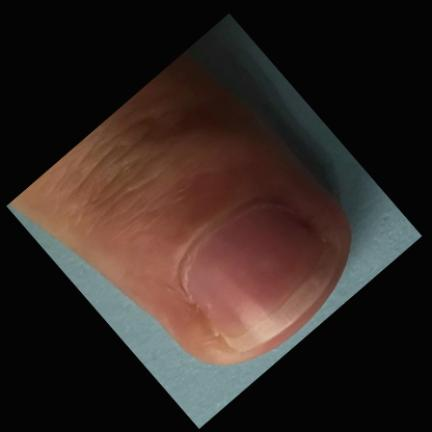Nail: (178, 199, 337, 353)
